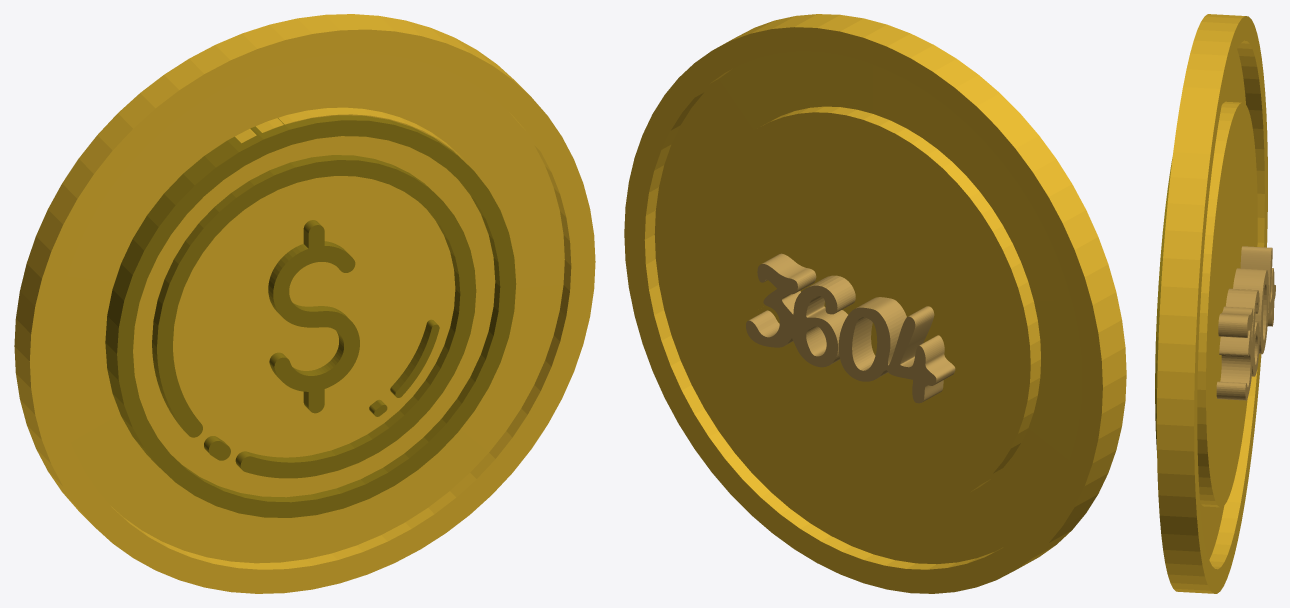
Rendered from coin.fbx.
3 views of the same model, side by side, from view 1: azimuth 30°, elevation 25°; view 2: azimuth 150°, elevation 25°; view 3: azimuth 270°, elevation 25° (orthographic). The views are drawn at different scales.
Visible parts, largest first — view 1: Cylinder, Curve.009; view 2: Cylinder, Curve.011, Curve.010; view 3: Cylinder, Curve.010, Curve.011, Curve.009.
Boxes of the visible parts, <box> form: Cylinder: <box>14,14,595,593</box>; Curve.009: <box>105,115,516,517</box>; Cylinder: <box>624,14,1126,593</box>; Curve.011: <box>838,297,955,403</box>; Curve.010: <box>746,253,855,367</box>; Cylinder: <box>1156,14,1267,593</box>; Curve.010: <box>1216,288,1259,400</box>; Curve.011: <box>1233,246,1275,354</box>; Curve.009: <box>1155,157,1172,449</box>.
Bounding box in the file's own units: 200 × 200 × 41.76.
